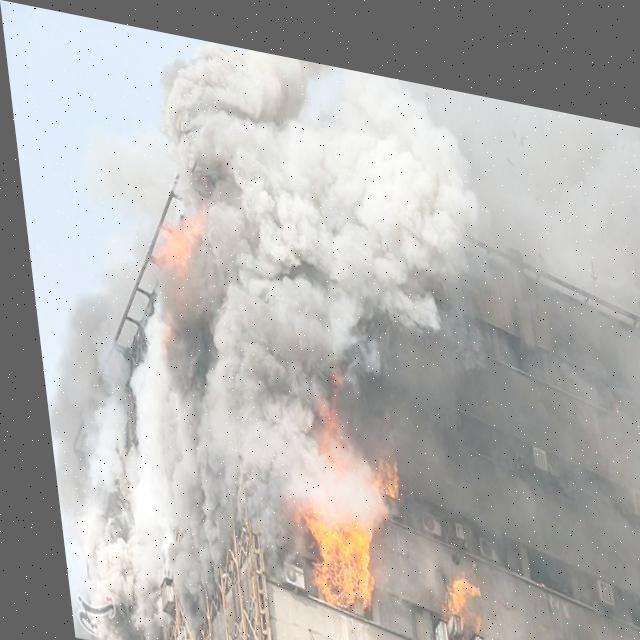Fire: (265, 359, 401, 628), (140, 176, 240, 407), (419, 548, 479, 639), (532, 637, 569, 639)
